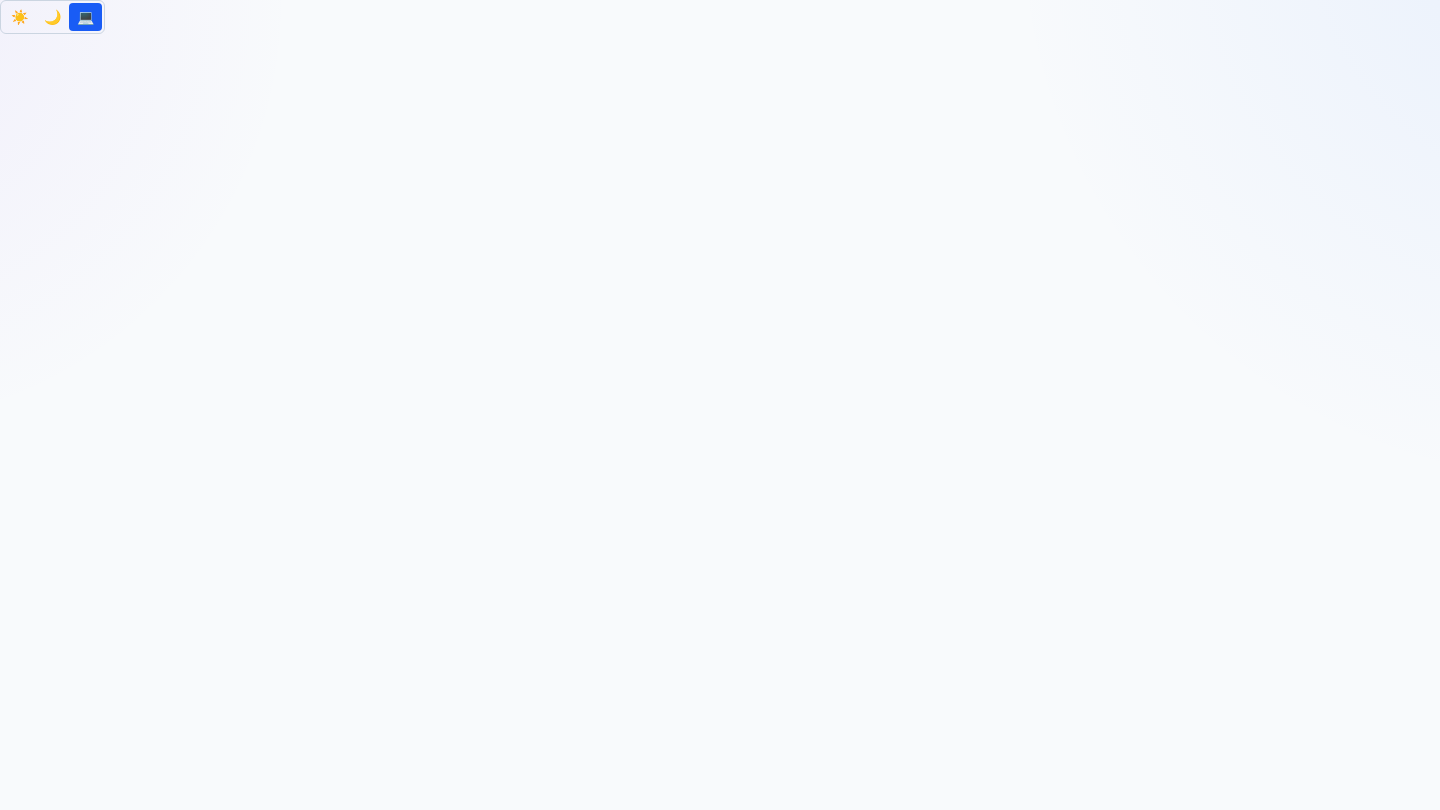
it: ThemeToggle › lets the user pick a theme preference
Click the button named "dark theme" at (52, 17), box [36,3,69,31]
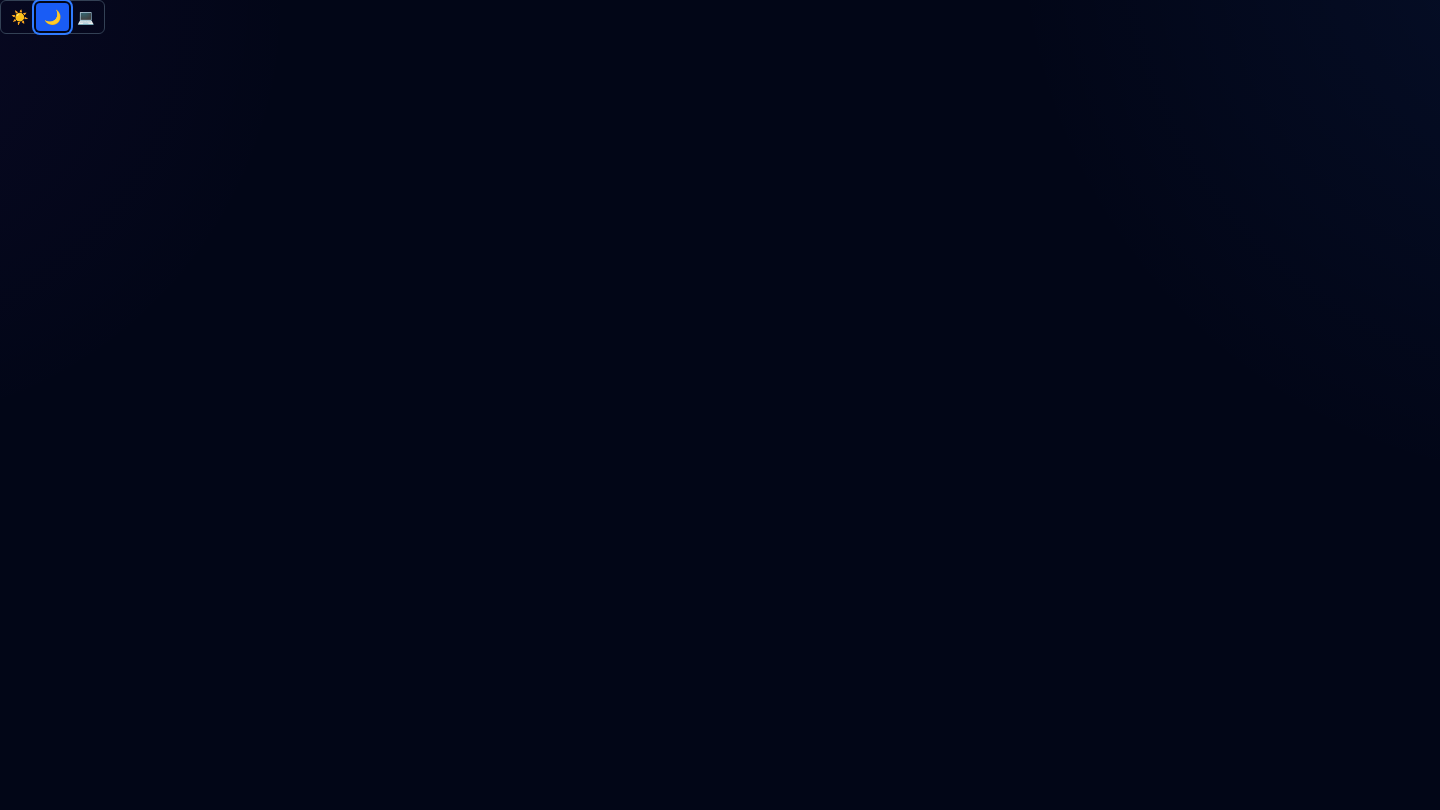
expect the button named "dark theme" is pressed: met, box [36,3,69,31]
